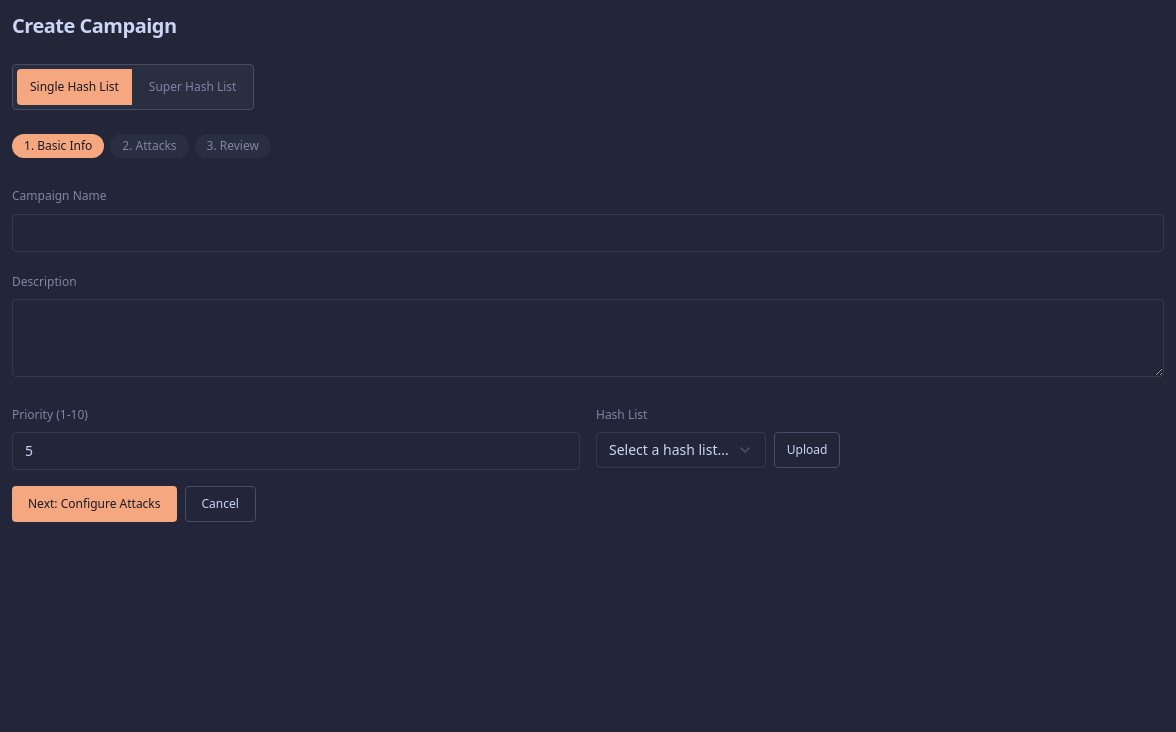
Test case: CampaignCreatePage — super target › shows the empty message only once the supers query succeeds with none
Check: the heading "Create Campaign" is shown, box [12,12,177,39]
Click the radio button "Super Hash List" at (193, 87), box [136,69,249,105]
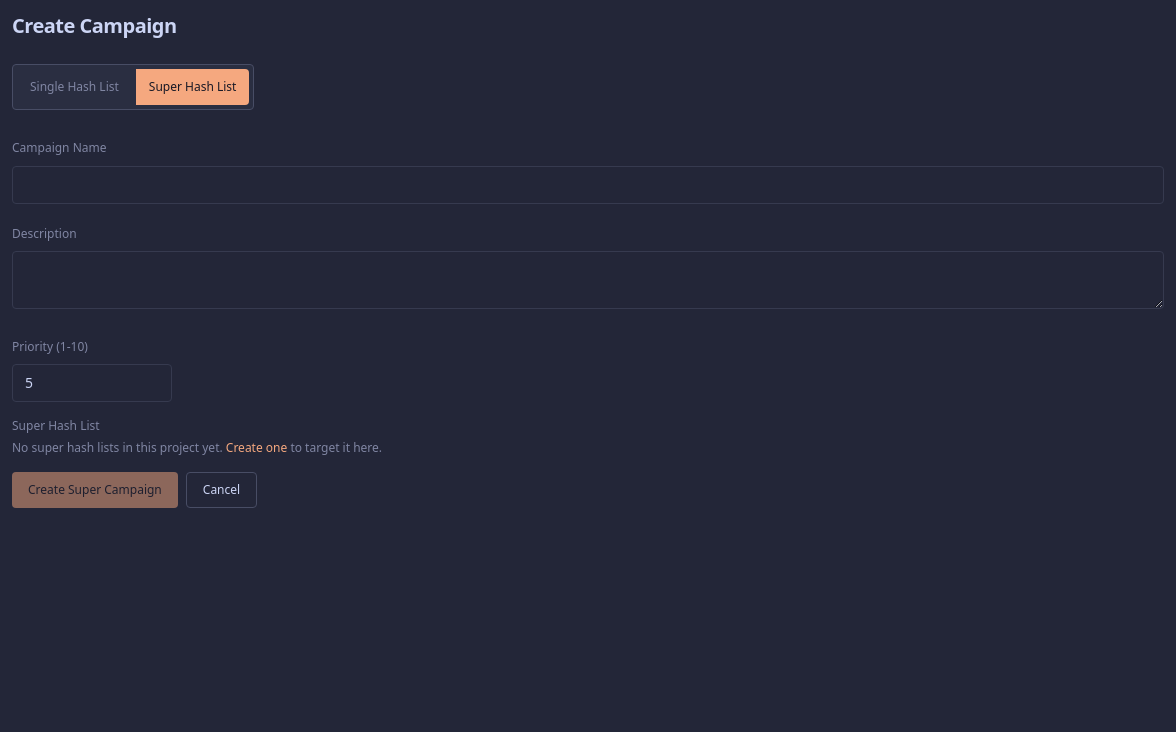
Check: the text "No super hash lists in this project yet" is shown, box [12,439,223,456]
